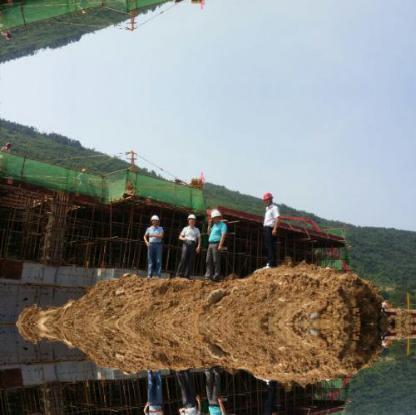helmet: (206, 207, 224, 221), (148, 211, 161, 224), (184, 211, 198, 221), (263, 192, 275, 202)
